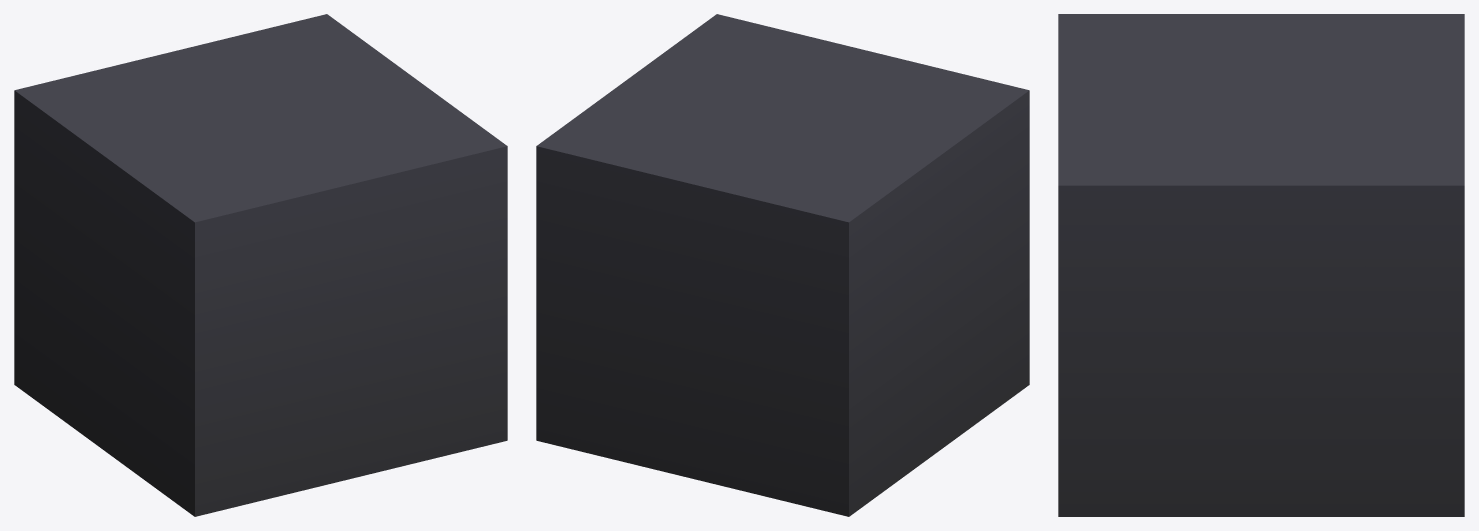
File: dirt.001_lev5.glb
The picture shows the model from 3 angles, left to right: view 1: azimuth 30°, elevation 25°; view 2: azimuth 150°, elevation 25°; view 3: azimuth 270°, elevation 25°; orthographic projection. The views are drawn at different scales.
Parts seen in each view (by area): view 1: dirt.001_lev5; view 2: dirt.001_lev5; view 3: dirt.001_lev5.
Boxes of the visible parts, <box> form: dirt.001_lev5: <box>14,14,507,516</box>; dirt.001_lev5: <box>536,14,1029,516</box>; dirt.001_lev5: <box>1058,14,1464,516</box>.
Size of the model in its own units: 4 by 3.6 by 4.
1 material, 1 textured.
